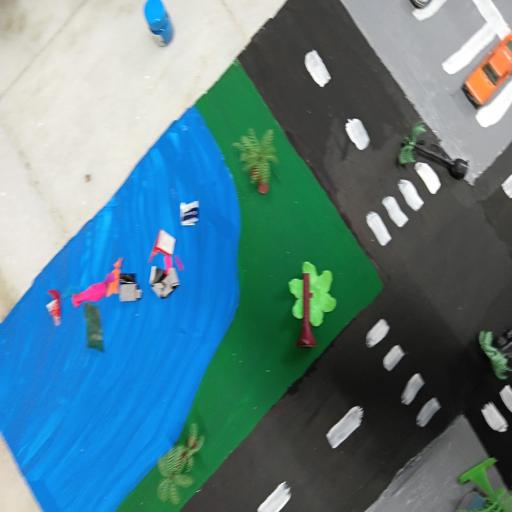fallen trees: (281, 246, 340, 362), (400, 119, 470, 190), (469, 298, 512, 388)
trash: (45, 197, 203, 362)
